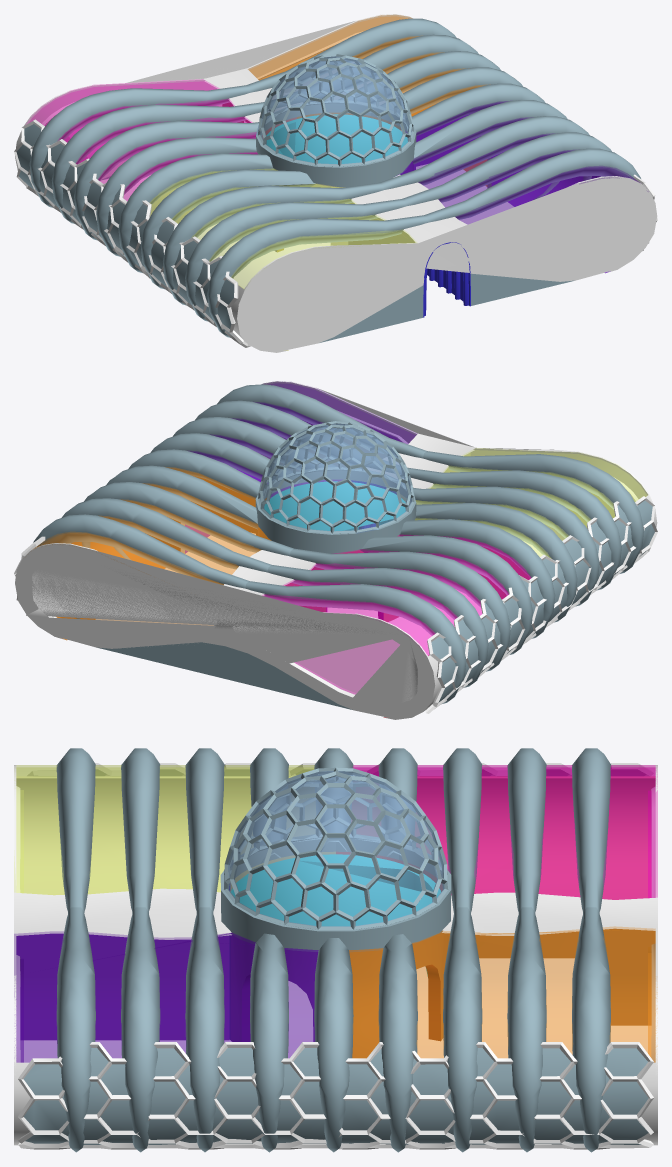
Rendered from VR building3.fbx.
The picture shows the model from 3 angles, top to bottom: view 1: azimuth 30°, elevation 25°; view 2: azimuth 150°, elevation 25°; view 3: azimuth 270°, elevation 25°; orthographic projection. The views are drawn at different scales.
Parts seen in each view (by area): view 1: Spines.001, Front Back facade, Ceiling glass walls, Dome glass, HoneyComb, Dome wireframe, Center circular room, Exterior white walls, Interior Walls, Front hallway Arch.001, Front hallway Arch Wall; view 2: Spines.001, Front Back facade, Ceiling glass walls, Dome glass, HoneyComb, Dome wireframe, Center circular room, Exploration window, Exterior white walls, Interior Walls; view 3: Spines.001, Ceiling glass walls, HoneyComb, Exterior white walls, Dome glass, Center circular room, Dome wireframe, Front hallway Walls.001, Interior Walls, Front Back facade.
Part boxes in pixels (x1,y1,x2,y2): Spines.001: (29,18,640,337); Front Back facade: (15,14,656,351); Ceiling glass walls: (26,15,648,288); Dome glass: (256,56,416,187); HoneyComb: (14,119,657,347); Dome wireframe: (258,54,413,166); Center circular room: (262,112,413,252); Exterior white walls: (15,104,657,352); Interior Walls: (150,102,523,223); Front hallway Arch.001: (424,268,468,315); Front hallway Arch Wall: (423,242,470,317); Spines.001: (33,384,643,703); Front Back facade: (15,381,657,718); Ceiling glass walls: (32,381,647,655); Dome glass: (255,423,416,553); HoneyComb: (14,496,657,713); Dome wireframe: (258,421,414,533); Center circular room: (258,479,409,621); Exploration window: (294,639,399,694); Exterior white walls: (15,469,656,719); Interior Walls: (147,476,529,605); Spines.001: (56,748,610,1152); Ceiling glass walls: (14,765,657,1062); HoneyComb: (18,763,653,1149); Exterior white walls: (14,776,657,1145); Dome glass: (220,771,451,949); Center circular room: (229,851,448,1058); Dome wireframe: (224,767,448,929); Front hallway Walls.001: (16,933,229,1040); Interior Walls: (448,928,655,1025); Front Back facade: (14,765,657,1140).
Bounding box in the file's own units: 2929 × 1092 × 2600.
